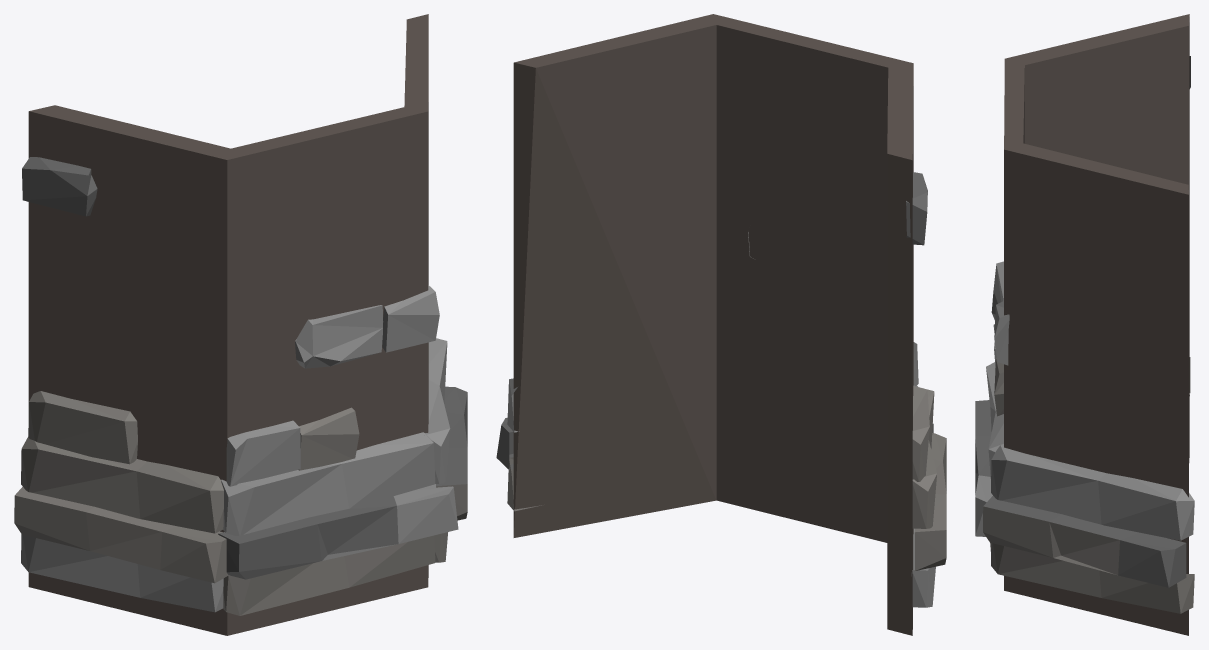
Rendered from MCastle_SmallTurret_00.FBX.
3 renders of one model, left to right at view 1: azimuth 30°, elevation 25°; view 2: azimuth 150°, elevation 25°; view 3: azimuth 270°, elevation 25°, orthographic. The views are drawn at different scales.
Visible parts, largest first — view 1: MCastle_SmallTurret_00_LOD0; view 2: MCastle_SmallTurret_00_LOD0; view 3: MCastle_SmallTurret_00_LOD0.
Part boxes in pixels (left/top/right/bottom): MCastle_SmallTurret_00_LOD0: left=14, top=14, right=467, bottom=635; MCastle_SmallTurret_00_LOD0: left=496, top=14, right=946, bottom=635; MCastle_SmallTurret_00_LOD0: left=975, top=14, right=1194, bottom=635.
Size of what is drawn, in the model's own units: 4.47 by 4.5 by 2.03.
